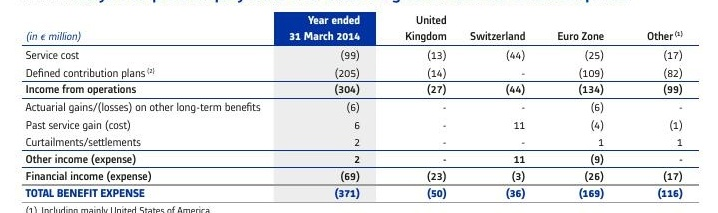table: (0, 0, 718, 213)
